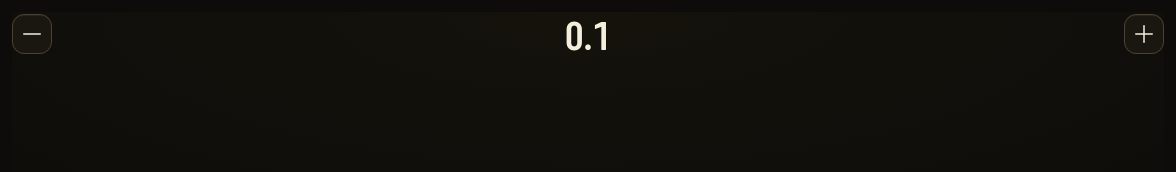
it: form controls › Stepper rounds to 2 dp (0.1 + 0.2), clamps, and disables at the ends
Click the button named "Increase" at (1144, 34), box [1124, 14, 1164, 54]
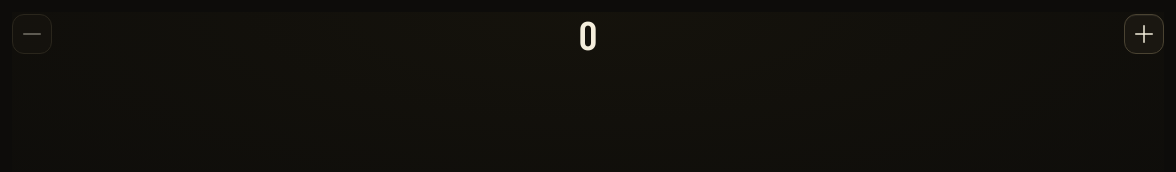
Result: the button named "Decrease" is disabled at [12, 14, 52, 54]
